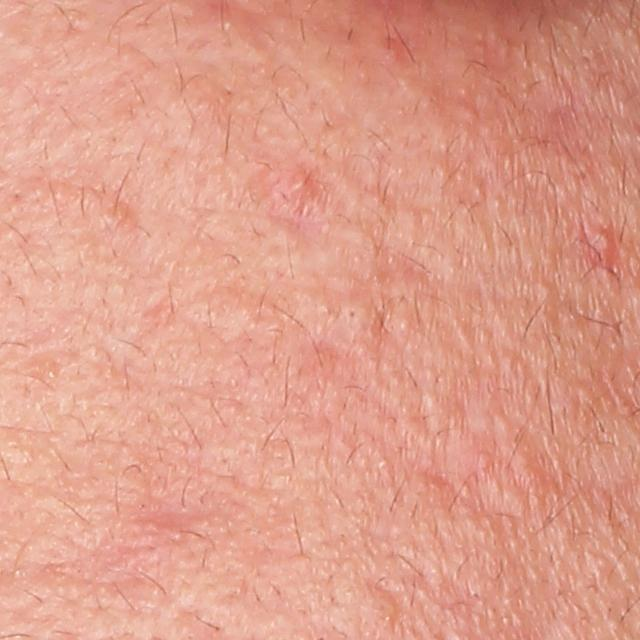comedo: (342, 305, 366, 328), (537, 281, 556, 303)
papule: (582, 229, 620, 273), (284, 167, 318, 192)
